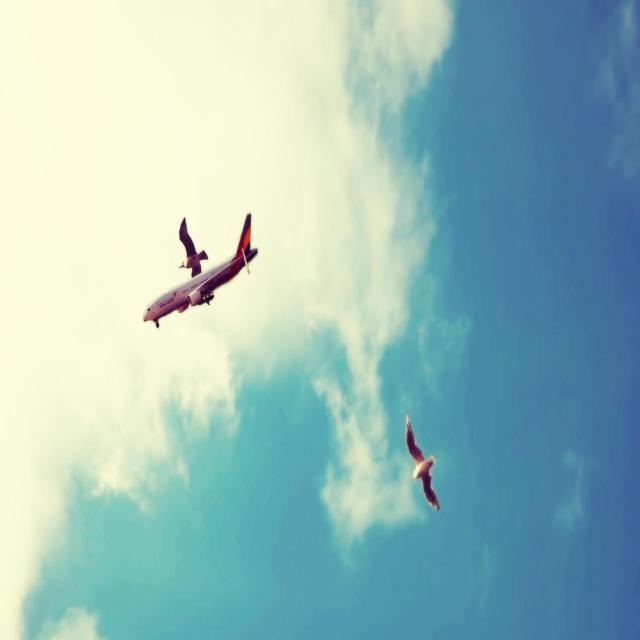airplane: (142, 212, 258, 328)
